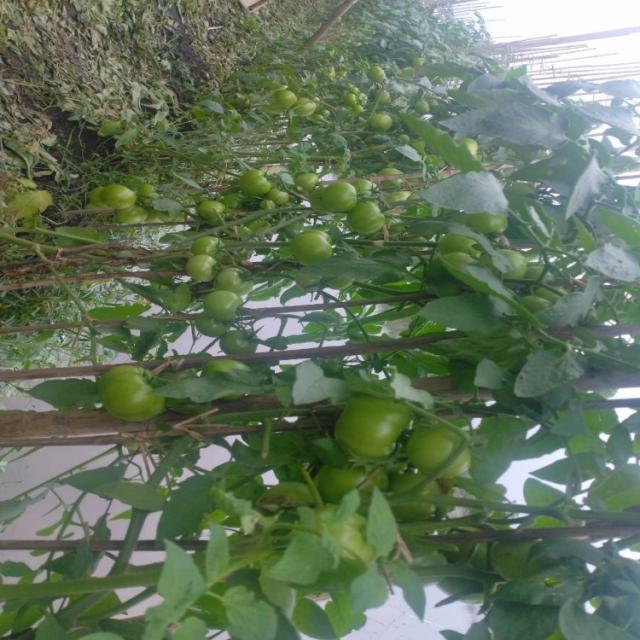tomato: (88, 357, 177, 430), (336, 389, 412, 469), (415, 420, 484, 488), (319, 463, 390, 509), (204, 283, 262, 329), (331, 512, 377, 566), (291, 220, 333, 276), (351, 193, 391, 238), (472, 206, 519, 243), (216, 258, 253, 303), (184, 251, 221, 290), (98, 179, 135, 218), (318, 183, 360, 210), (238, 164, 268, 199), (266, 174, 297, 202), (464, 132, 489, 165), (197, 195, 223, 225), (278, 89, 305, 113), (296, 94, 323, 118), (414, 89, 434, 121), (119, 200, 145, 223), (341, 85, 360, 116), (375, 107, 396, 135), (380, 61, 397, 92), (298, 169, 322, 189)
